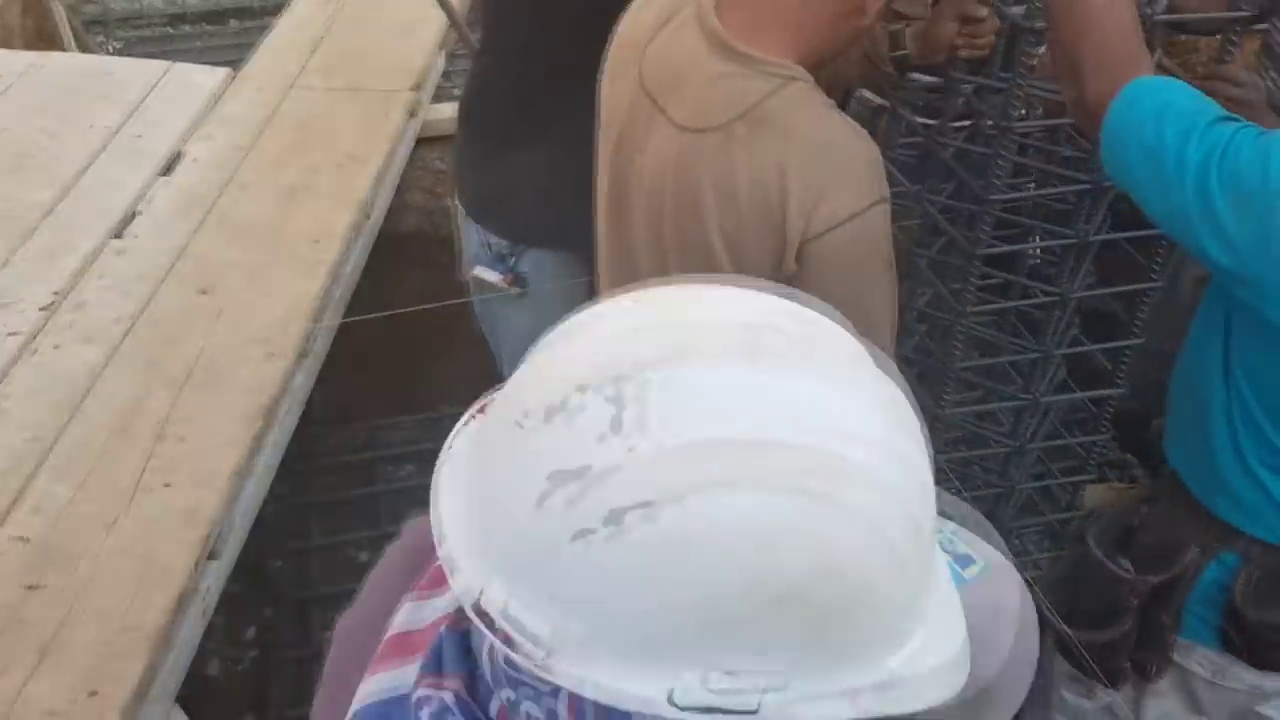helmet: (424, 266, 969, 719)
person: (1047, 0, 1277, 720), (588, 0, 999, 361), (442, 0, 612, 383)
